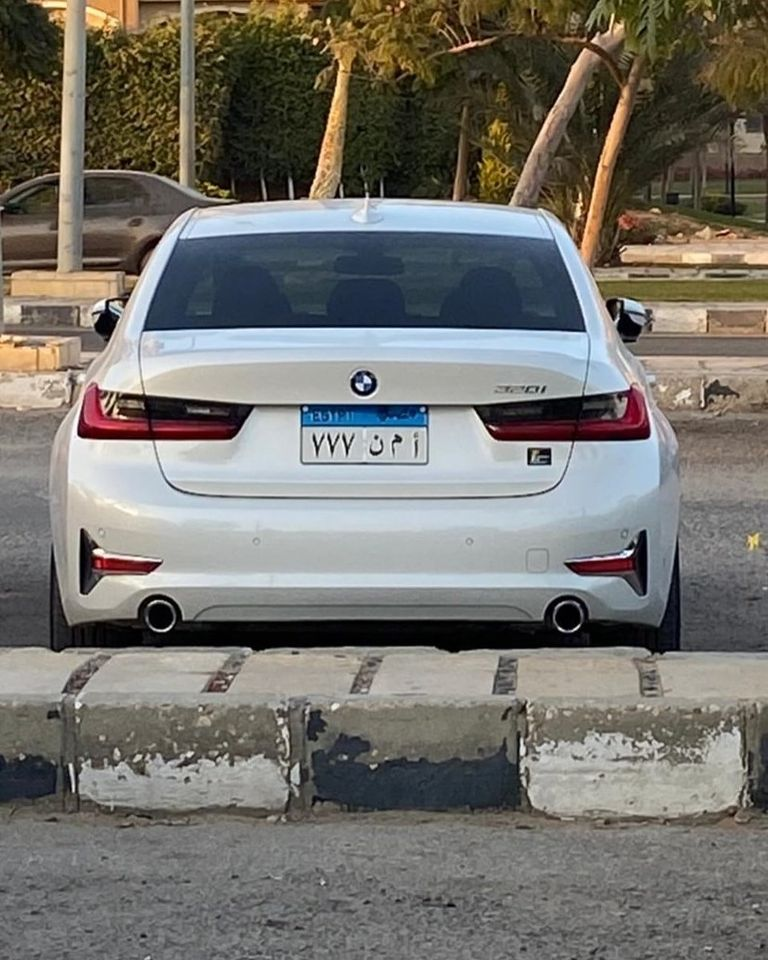carpl: (299, 403, 428, 464)
